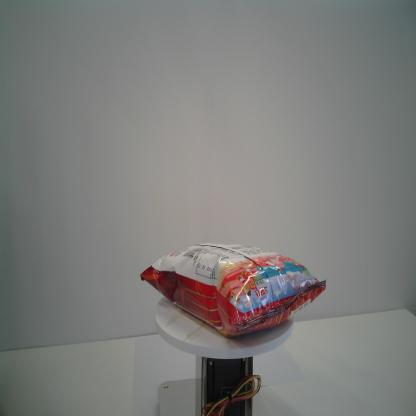Puffed Food: (140, 242, 327, 339)
